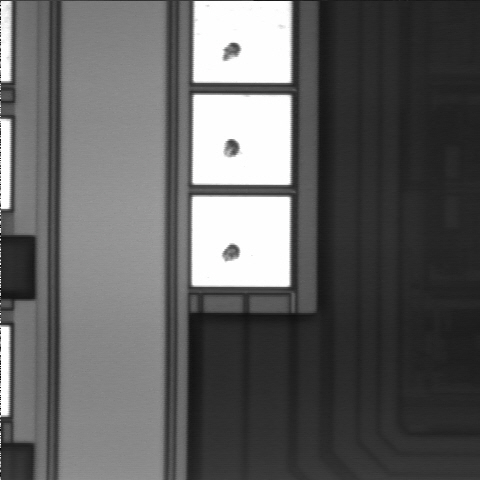pad: (192, 196, 290, 287), (193, 95, 291, 185)
